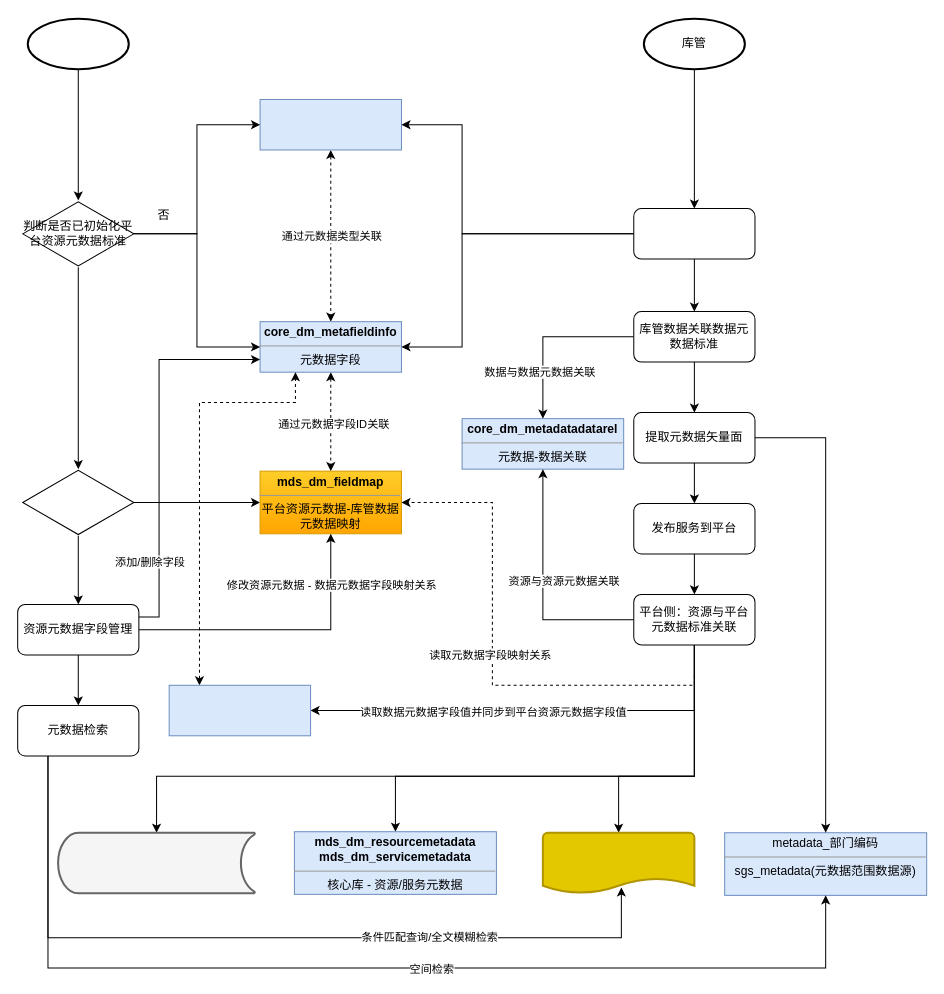
The diagram is 944 pixels wide and 994 high, and some of its shapes have lost their labels. Each missing label, with the centre of its shape:
"core_dm_metainforel 元数据字段值" belongs at pixel 239 710.
"core_dm_metatype 元数据标准类型" belongs at pixel 330 124.
"ES sgs_resource_metadata" belongs at pixel 618 862.
"Mongo GEO_ESB_RESOURCEINFO GEO_ESB_SERVICEINFO" belongs at pixel 156 862.
"判断是否已导入库管数据元数据标准" belongs at pixel 78 502.
"导入数据元数据标准" belongs at pixel 694 233.
"平台" belongs at pixel 77 43.
